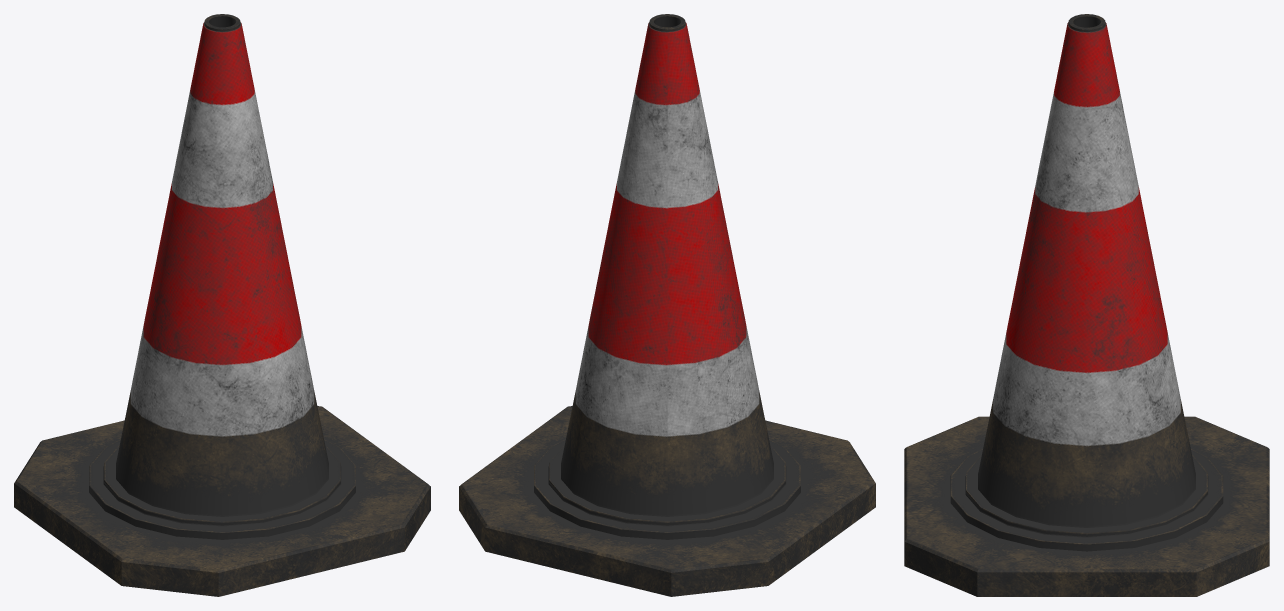
File: reflective_cone_collars.glb
3 renders of one model, left to right at view 1: azimuth 30°, elevation 25°; view 2: azimuth 150°, elevation 25°; view 3: azimuth 270°, elevation 25°, orthographic. The views are drawn at different scales.
Parts seen in each view (by area): view 1: ReflectiveConeCollars_2; view 2: ReflectiveConeCollars_2; view 3: ReflectiveConeCollars_2.
Part boxes in pixels (x1=…): ReflectiveConeCollars_2: x1=14, y1=14, x2=430, y2=596; ReflectiveConeCollars_2: x1=459, y1=14, x2=875, y2=596; ReflectiveConeCollars_2: x1=904, y1=14, x2=1269, y2=596.
Size of the model in its own units: 37 by 55.71 by 37.
Materials: 1 (1 with a texture image).
